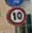limite 10: (6, 7, 26, 25)
